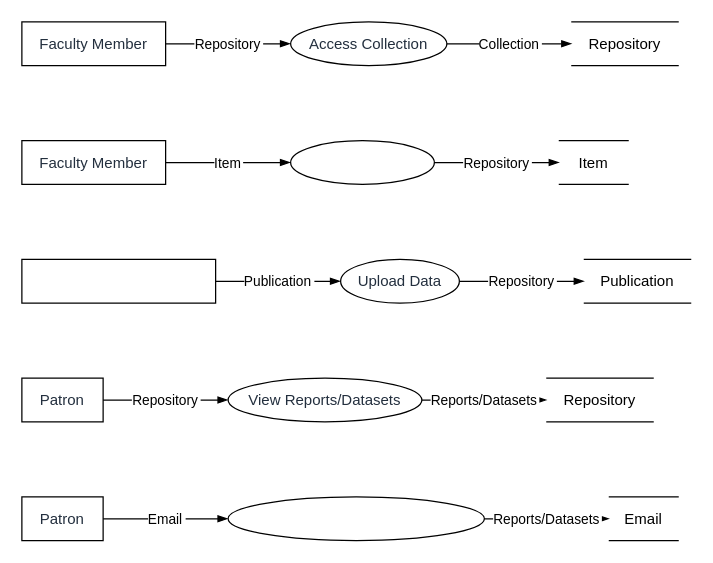
The diagram is 713 pixels wide and 563 high, and some of its shapes have lost their labels. Here are the shapes that lost their labels. From the top down, the centre of each, then its label:
the point at 361,161: Direct Students
the point at 118,280: Cornell Faculty Member
the point at 355,518: Select/Deselect Reports/Datasets
